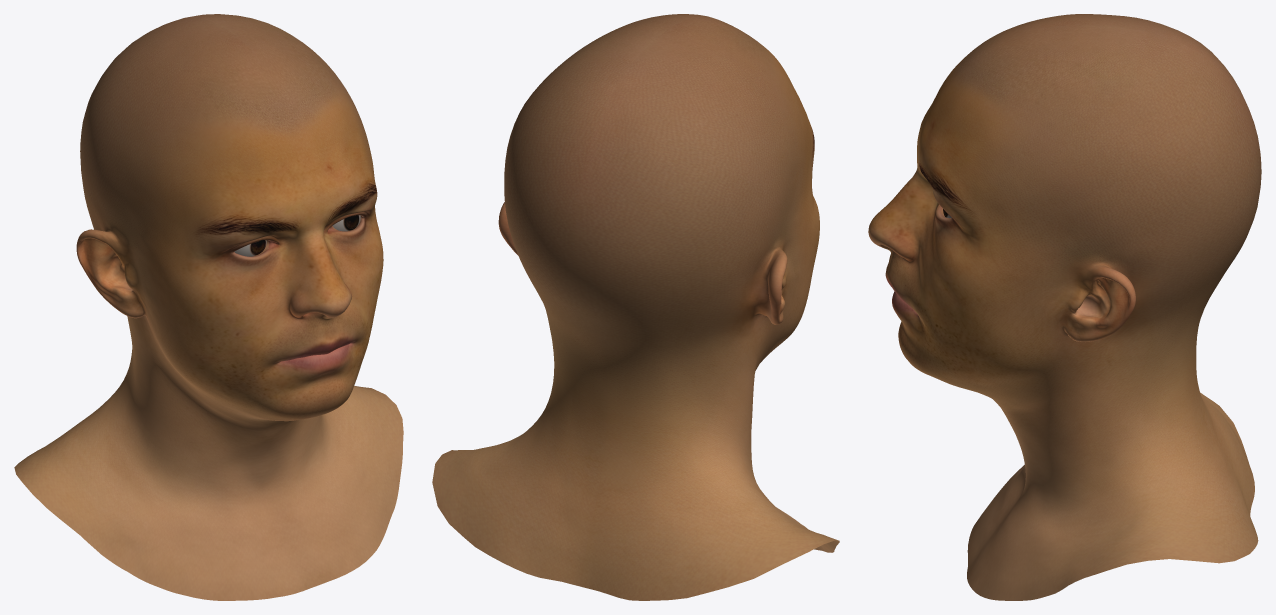
The picture shows the model from 3 angles, left to right: view 1: azimuth 30°, elevation 25°; view 2: azimuth 150°, elevation 25°; view 3: azimuth 270°, elevation 25°; orthographic projection. The views are drawn at different scales.
Parts seen in each view (by area): view 1: Registered head; view 2: Registered head; view 3: Registered head.
Part boxes in pixels (x1,y1,x2,y2): Registered head: (14, 14, 403, 600); Registered head: (432, 14, 839, 600); Registered head: (868, 14, 1261, 600).
Size of the model in its own units: 1.32 by 1.79 by 1.18.
3 materials, 3 textured.
